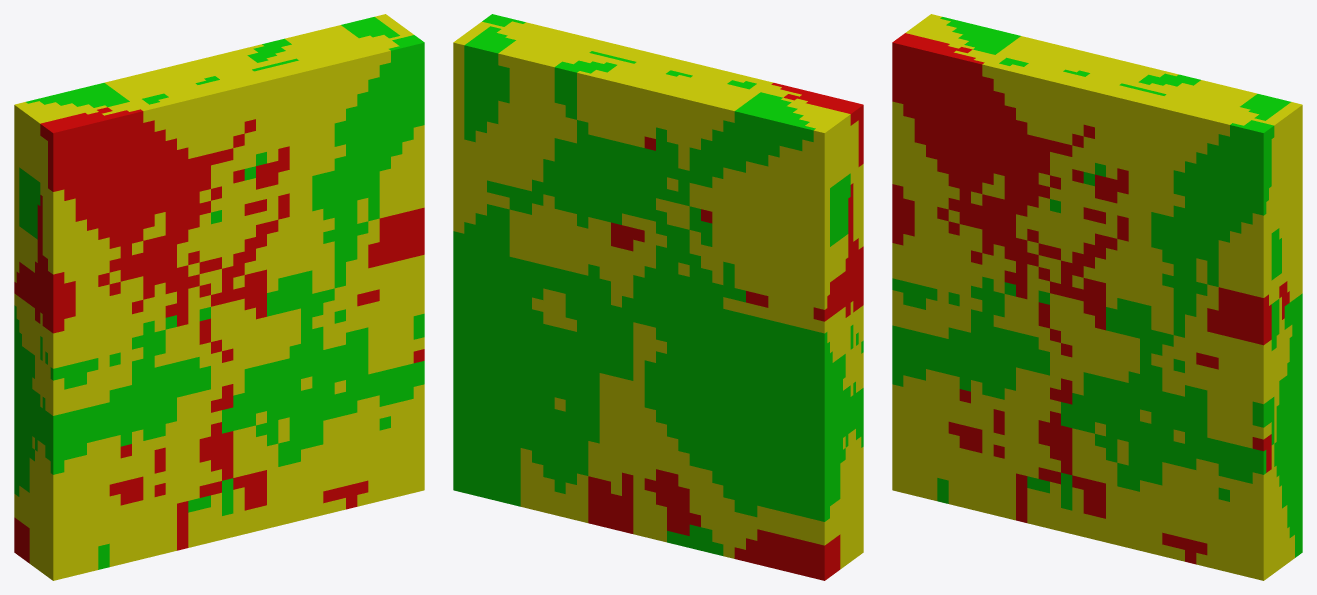
File: voxels_local_fullcube.glb
3 renders of one model, left to right at view 1: azimuth 30°, elevation 25°; view 2: azimuth 150°, elevation 25°; view 3: azimuth 330°, elevation 25°, orthographic.
Parts seen in each view (by area): view 1: world; view 2: world; view 3: world.
Part boxes in pixels (x1,y1,x2,y2): world: (14,14,424,580); world: (453,14,863,580); world: (892,14,1302,580).
Size of the model in its own units: 825 by 950 by 150.
